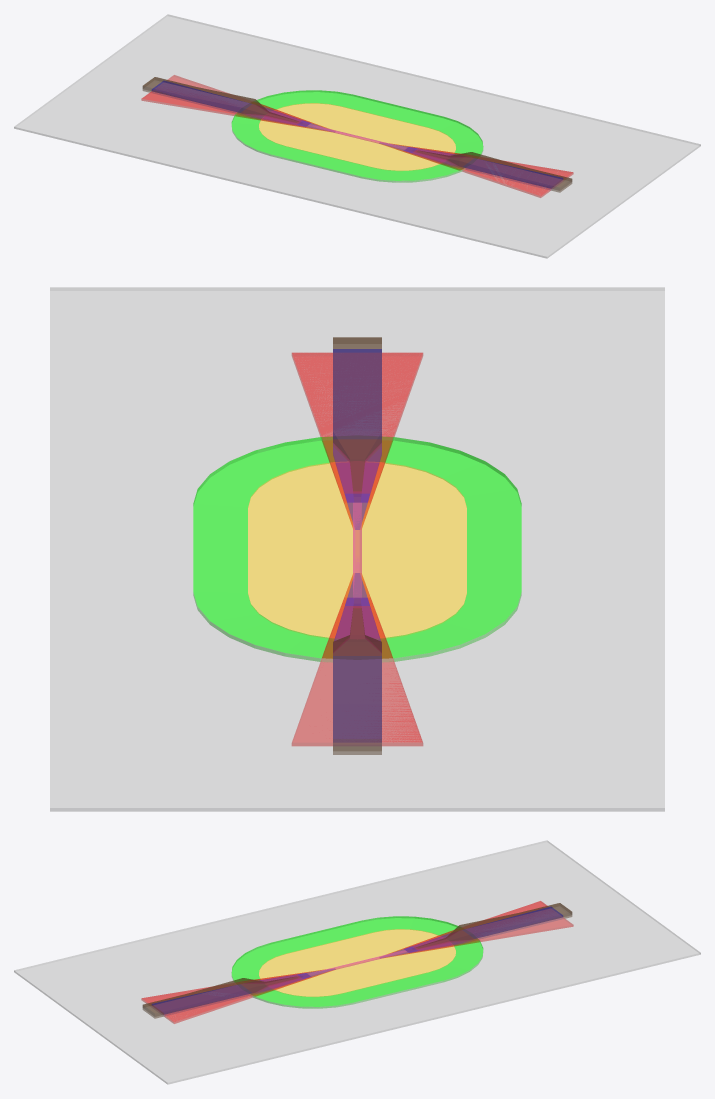
The model's file is zong.obj.
The picture shows the model from 3 angles, top to bottom: view 1: azimuth 30°, elevation 25°; view 2: azimuth 150°, elevation 25°; view 3: azimuth 270°, elevation 25°; orthographic projection. The views are drawn at different scales.
Visible parts, largest first — view 1: __________, _________, ______, Plane01, _______; view 2: __________, _________, ______, _______, Plane01; view 3: __________, _________, ______, Plane01, _______.
Boxes of the visible parts, left/top/right/bottom form: __________: left=14, top=14, right=700, bottom=258; _________: left=259, top=103, right=455, bottom=170; ______: left=231, top=90, right=483, bottom=182; Plane01: left=142, top=77, right=572, bottom=192; _______: left=141, top=75, right=573, bottom=197; __________: left=50, top=287, right=664, bottom=811; _________: left=248, top=462, right=466, bottom=638; ______: left=193, top=437, right=521, bottom=661; _______: left=292, top=352, right=422, bottom=745; Plane01: left=333, top=337, right=381, bottom=754; __________: left=14, top=840, right=700, bottom=1084; _________: left=259, top=929, right=455, bottom=996; ______: left=231, top=916, right=483, bottom=1008; Plane01: left=142, top=903, right=572, bottom=1018; _______: left=141, top=901, right=573, bottom=1023.
Size of the model in its own units: 4196392 by 60000 by 5020864.
